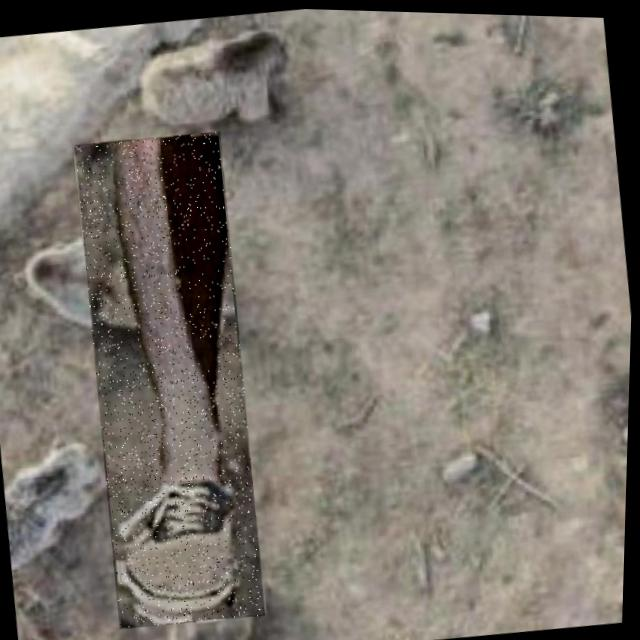Person in Rubble: (63, 126, 279, 631)
